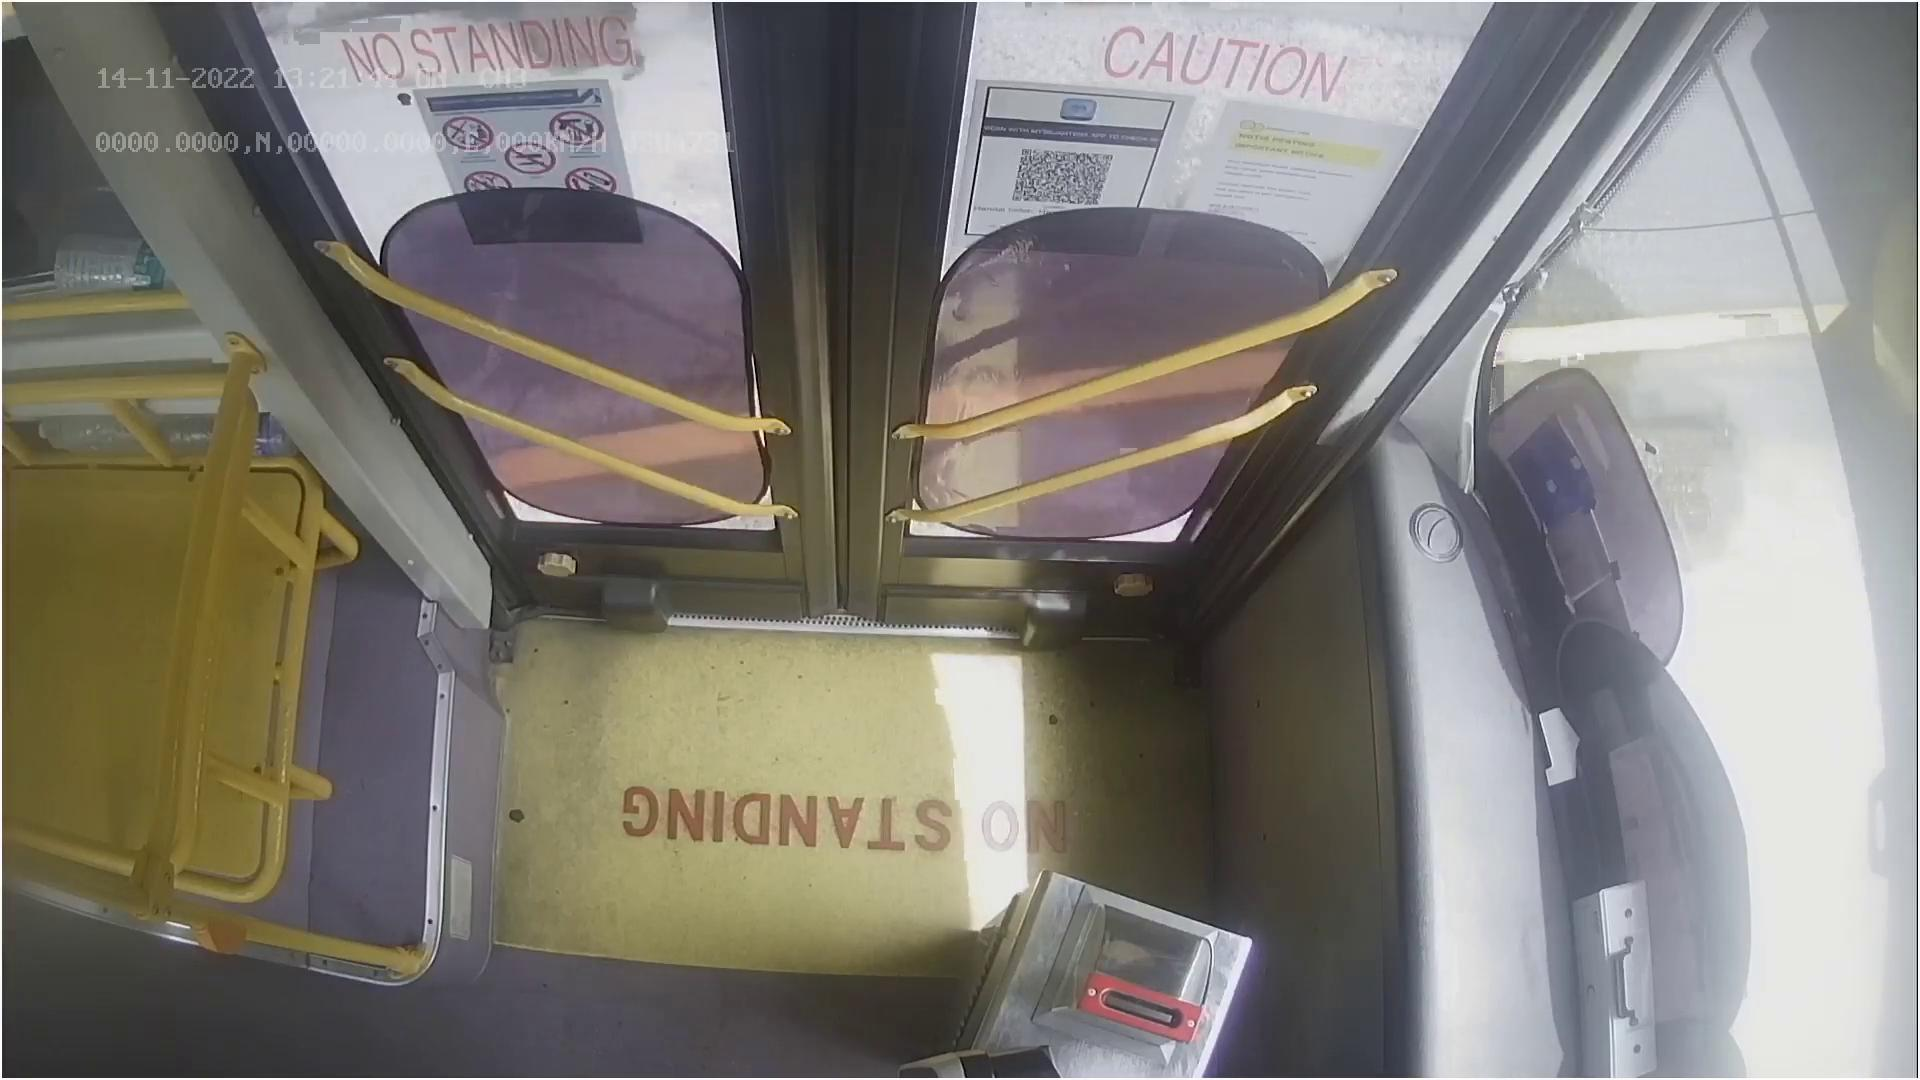close: (285, 0, 1447, 157)
